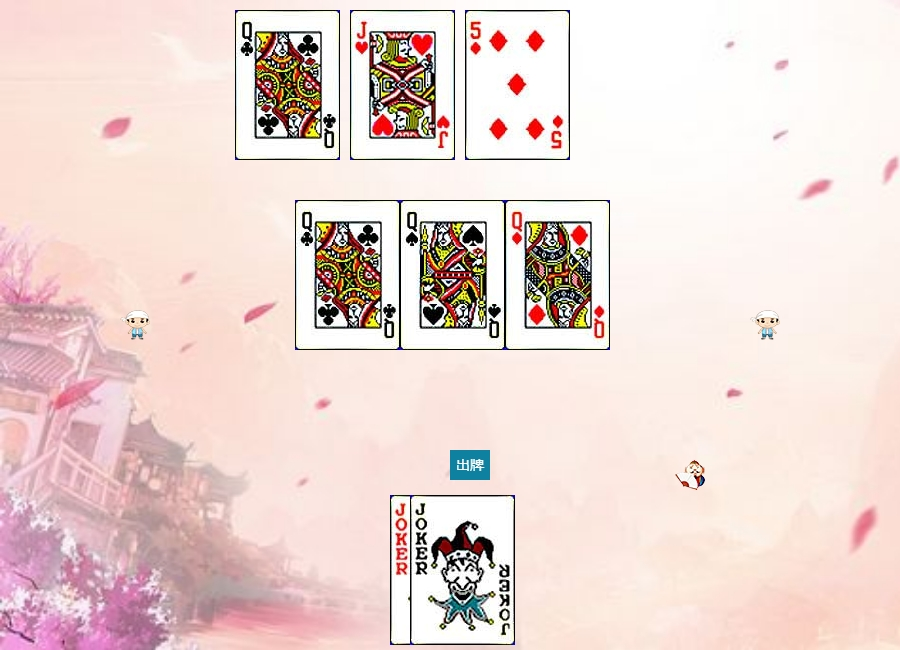11~3: (350, 10, 455, 160)
12~1: (505, 200, 610, 350)
12~2: (235, 10, 340, 160), (295, 200, 400, 350)
12~4: (400, 200, 505, 350)
17~3: (410, 495, 515, 645)
18~4: (390, 495, 495, 645)
5~1: (465, 10, 570, 160)
